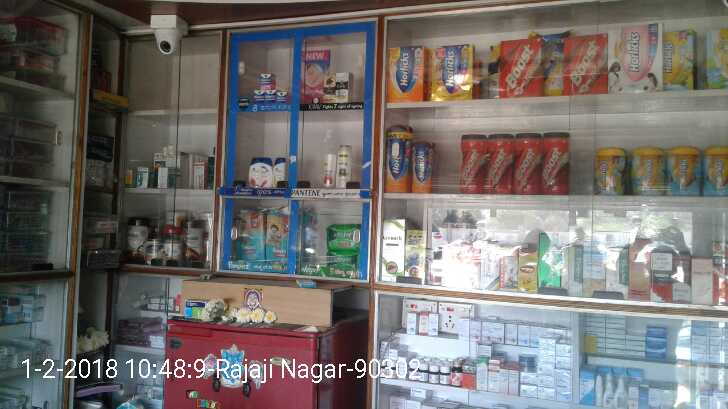beauty: (336, 144, 350, 189), (335, 69, 351, 101), (322, 152, 335, 188), (247, 156, 261, 189), (272, 158, 286, 188), (260, 157, 273, 189)
pharmacy: (230, 208, 264, 265), (266, 208, 287, 264), (326, 222, 362, 252), (323, 253, 364, 278), (258, 72, 274, 91), (251, 90, 264, 106), (275, 91, 288, 105), (263, 92, 276, 104)
